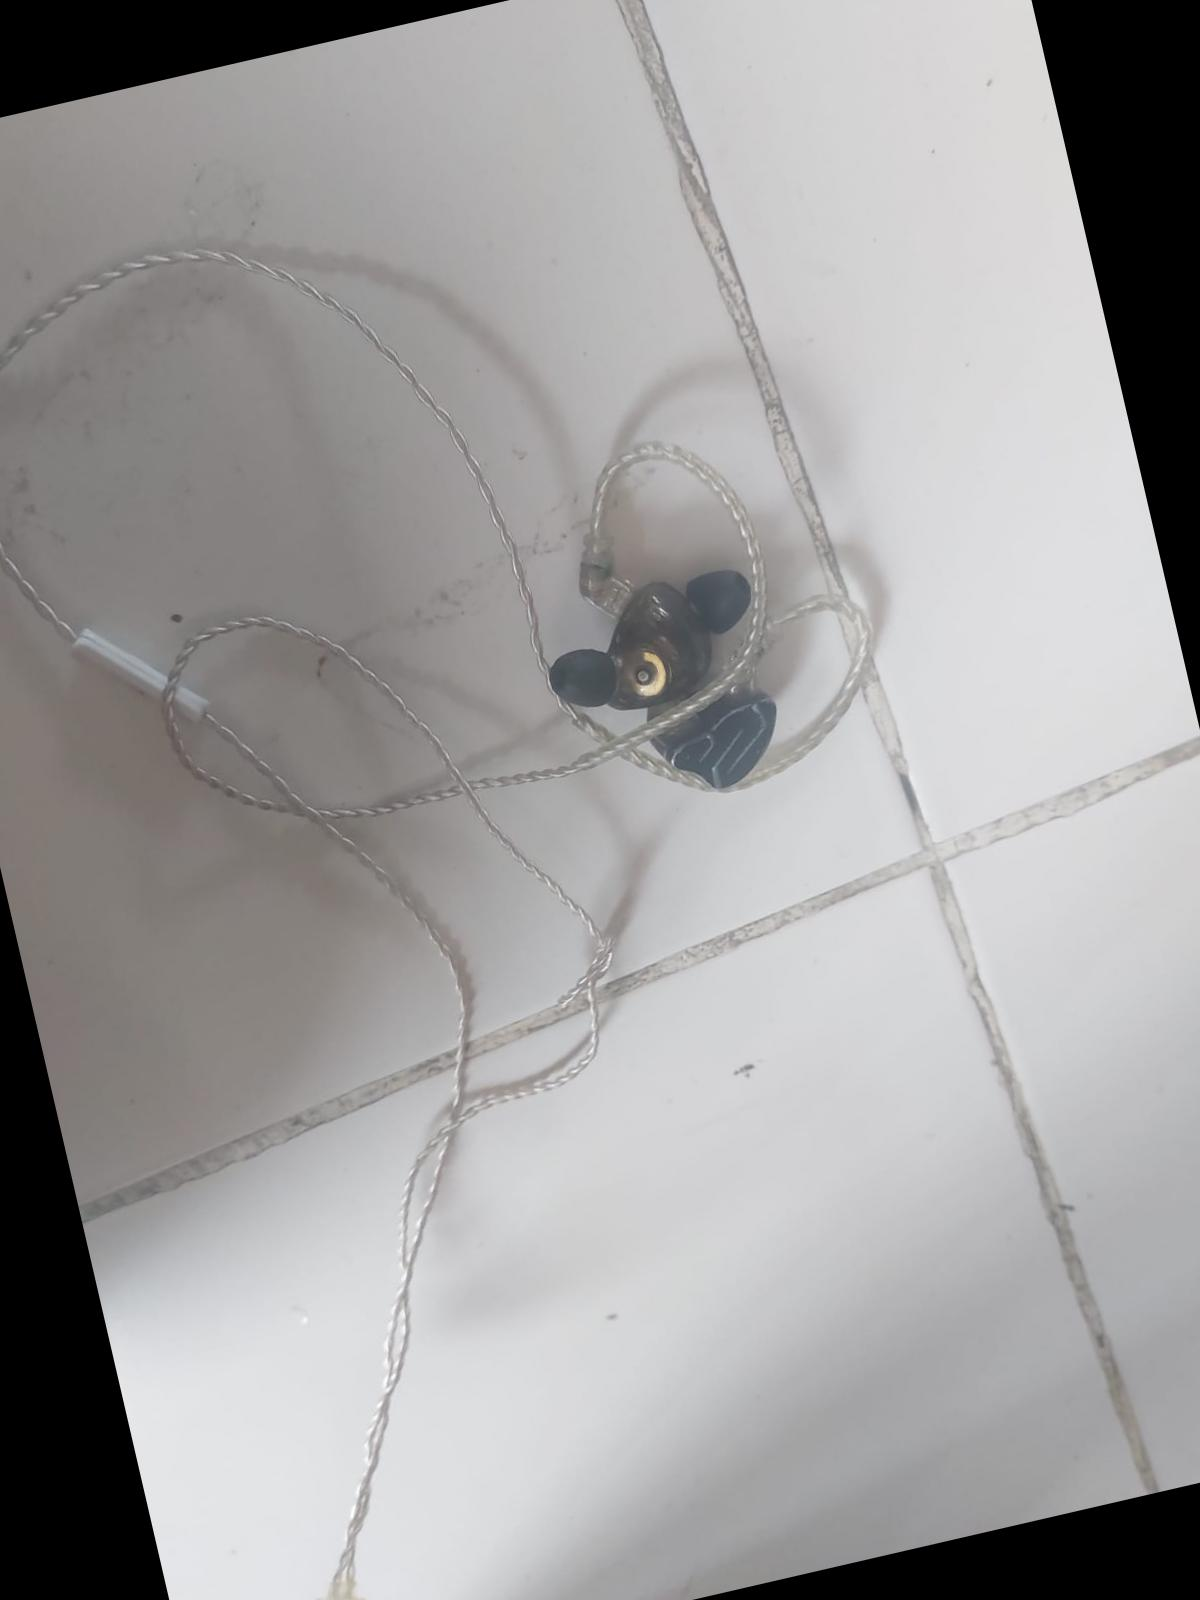Earphone: (521, 514, 833, 820)
